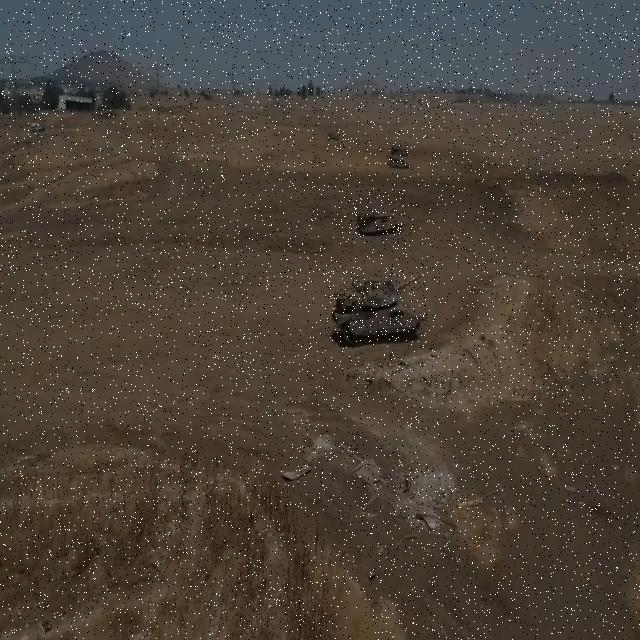MIL_MBT: (327, 270, 427, 342), (348, 189, 406, 243), (387, 141, 408, 167), (327, 129, 345, 149)
